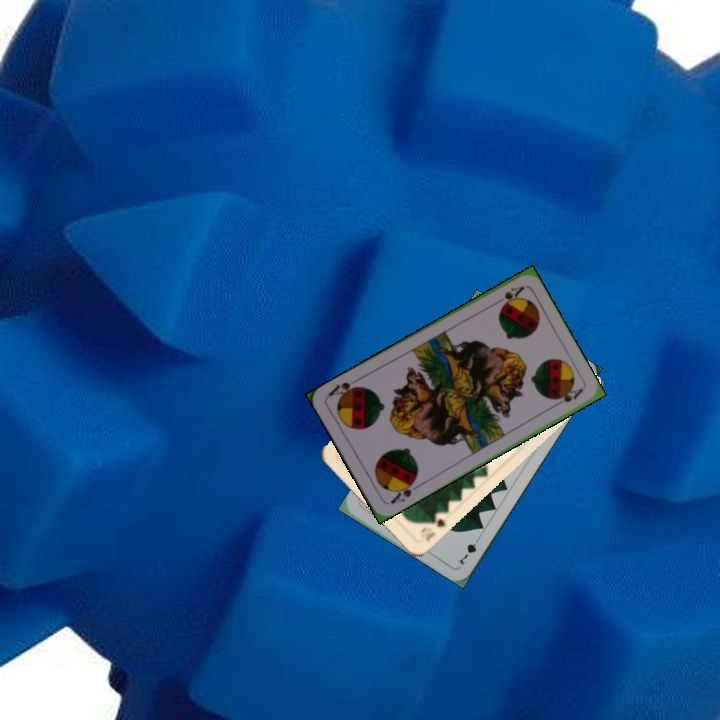G10: (416, 514, 448, 545)
G7: (455, 532, 483, 567)
SA: (489, 282, 527, 309), (386, 475, 418, 507)
